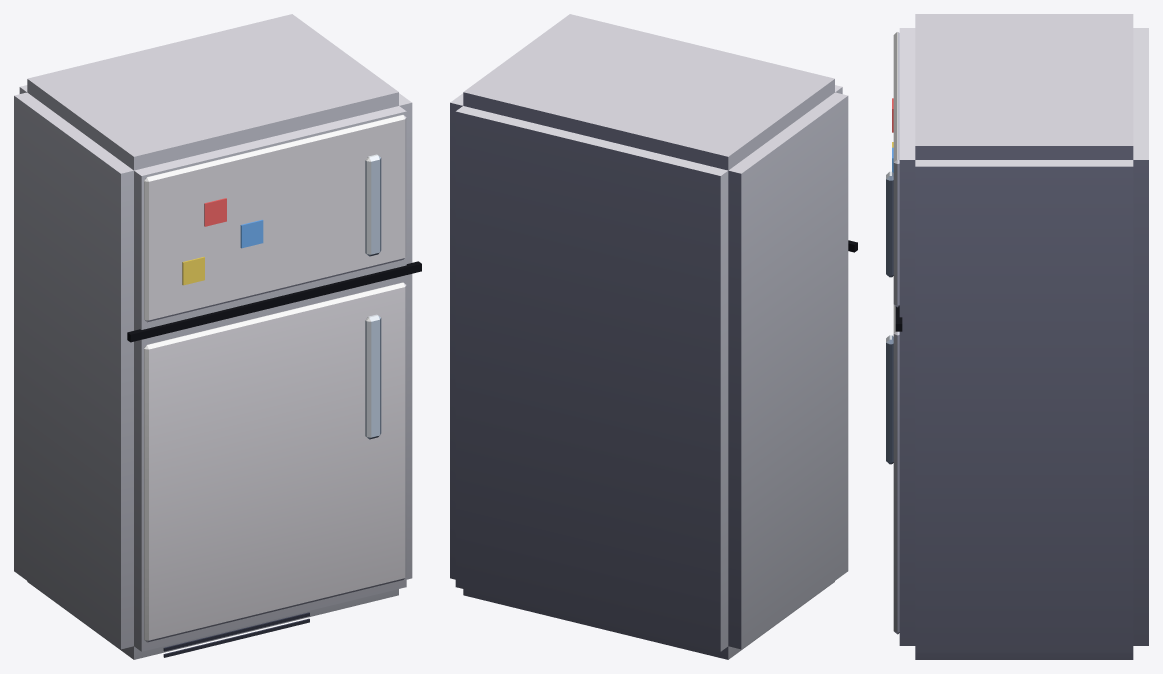
The model's file is fridge.glb.
3 renders of one model, left to right at view 1: azimuth 30°, elevation 25°; view 2: azimuth 150°, elevation 25°; view 3: azimuth 270°, elevation 25°, orthographic. The views are drawn at different scales.
Parts seen in each view (by area): view 1: fridge; view 2: fridge; view 3: fridge.
Part boxes in pixels (left/top/right/bottom): fridge: left=14, top=14, right=421, bottom=659; fridge: left=450, top=14, right=857, bottom=659; fridge: left=886, top=14, right=1148, bottom=659.
Bounding box in the file's own units: 0.8 × 1.32 × 0.612.
Materials: 7 (7 with a texture image).
